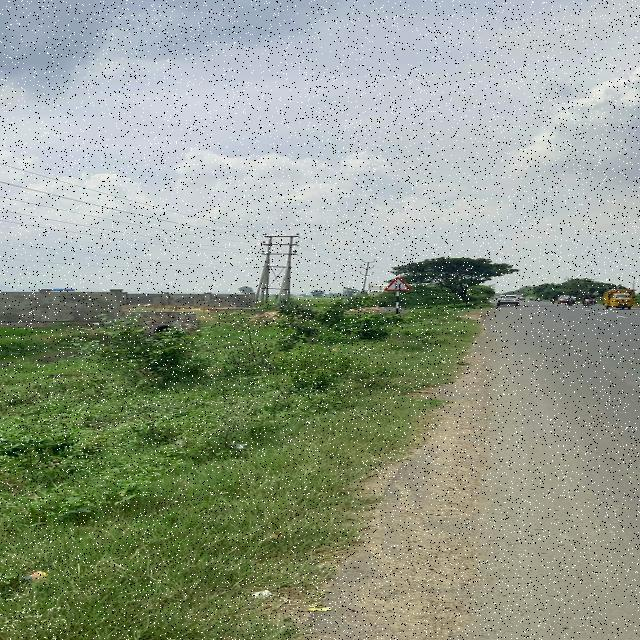Narrow_Bridge: (383, 276, 412, 293)
